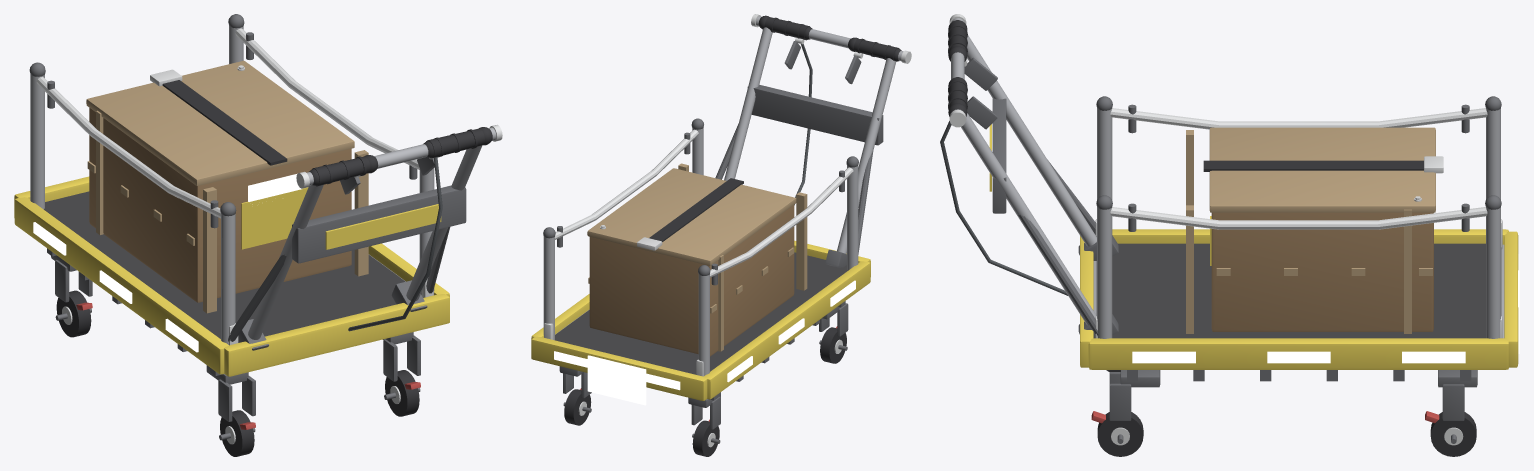
The model's file is PR_loot_cart.fbx.
3 views of the same model, side by side, from view 1: azimuth 30°, elevation 25°; view 2: azimuth 150°, elevation 25°; view 3: azimuth 270°, elevation 25° (orthographic). The views are drawn at different scales.
Visible parts, largest first — view 1: PR_loot_cart; view 2: PR_loot_cart; view 3: PR_loot_cart.
Boxes of the visible parts, <box> form: PR_loot_cart: <box>14,14,502,456</box>; PR_loot_cart: <box>531,14,911,456</box>; PR_loot_cart: <box>940,14,1519,456</box>.
Size of the model in its own units: 0.696 by 0.9772 by 1.46.
